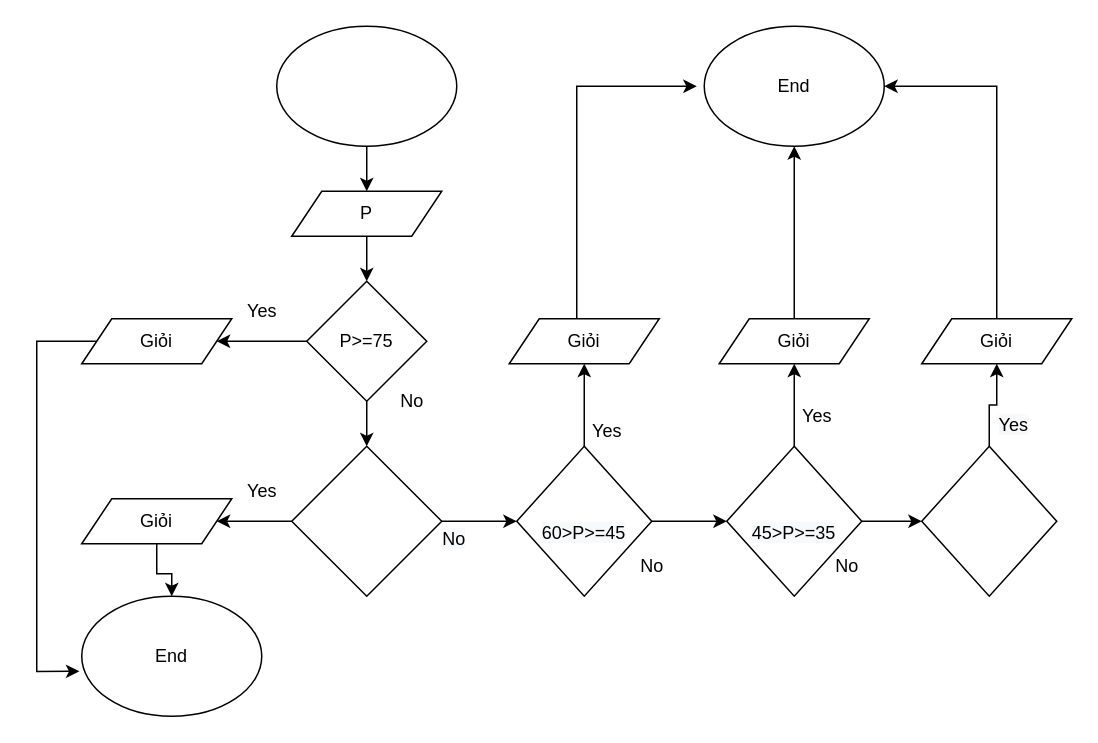
Image size: 1098x743. Some labels were removed from this diagram. Each missing label, with the centre of its shape:
75>P>=60: (366,520)
Begin: (366,85)
P<35: (988,520)
